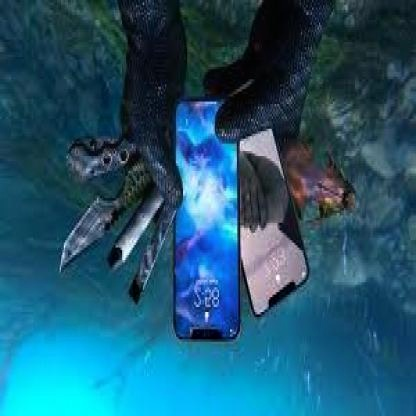cellphone: (197, 89, 311, 322), (172, 97, 241, 346)
